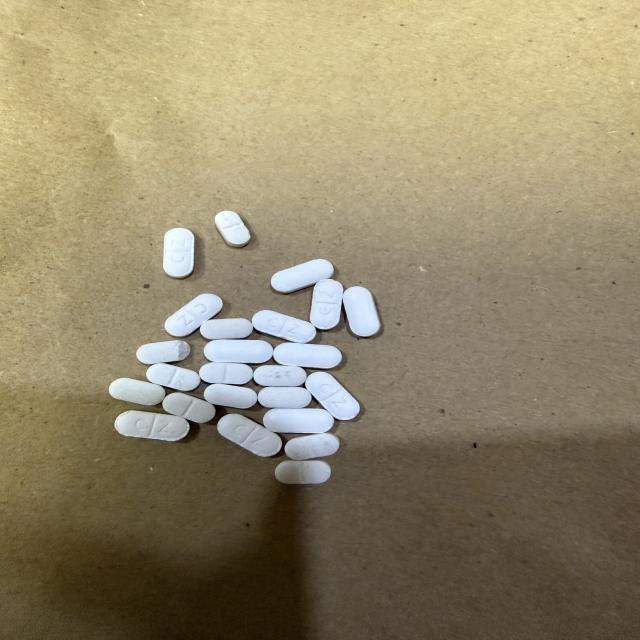pill: (218, 414, 281, 456), (306, 372, 359, 420), (165, 294, 222, 336), (115, 411, 188, 441), (271, 259, 333, 293), (252, 310, 315, 343), (343, 287, 380, 336), (263, 409, 333, 433), (310, 279, 343, 329), (274, 344, 341, 368), (204, 340, 273, 363), (163, 228, 194, 278), (109, 378, 165, 405), (163, 393, 215, 422), (285, 433, 339, 460), (147, 364, 200, 390), (137, 340, 190, 364), (204, 384, 257, 408), (275, 461, 330, 484), (215, 211, 250, 247), (200, 363, 253, 384), (258, 387, 311, 408), (254, 365, 306, 386), (200, 319, 253, 339)
